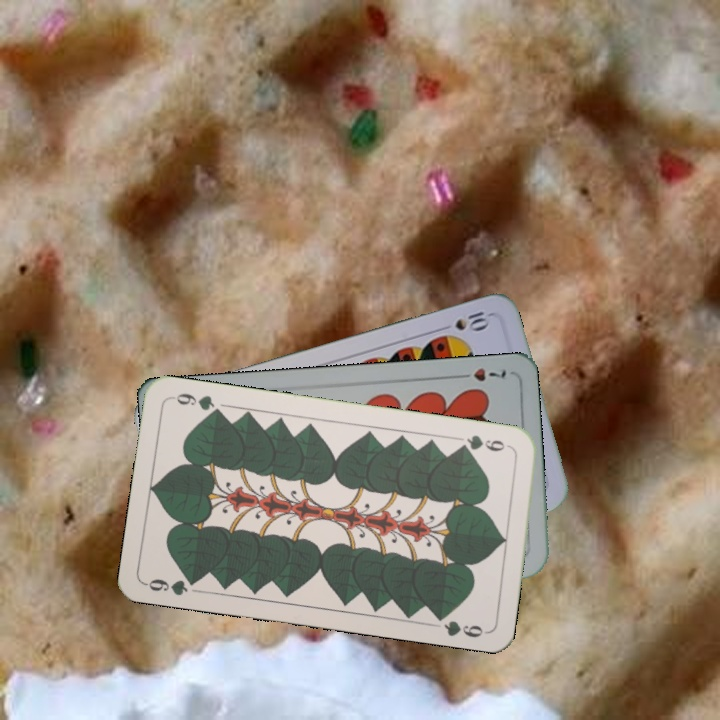G9: (142, 573, 202, 598), (454, 430, 514, 454)
H7: (452, 363, 509, 384)
S10: (435, 307, 493, 334)
